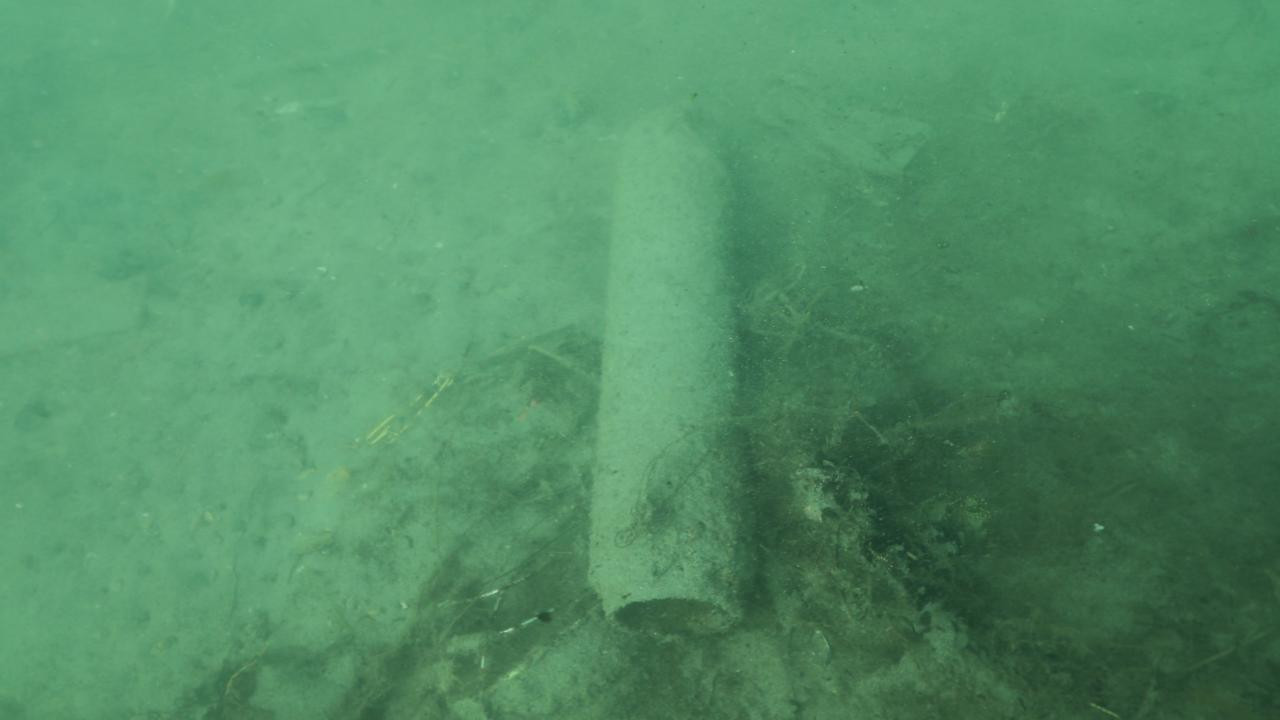eel fish trap: (582, 102, 750, 644)
